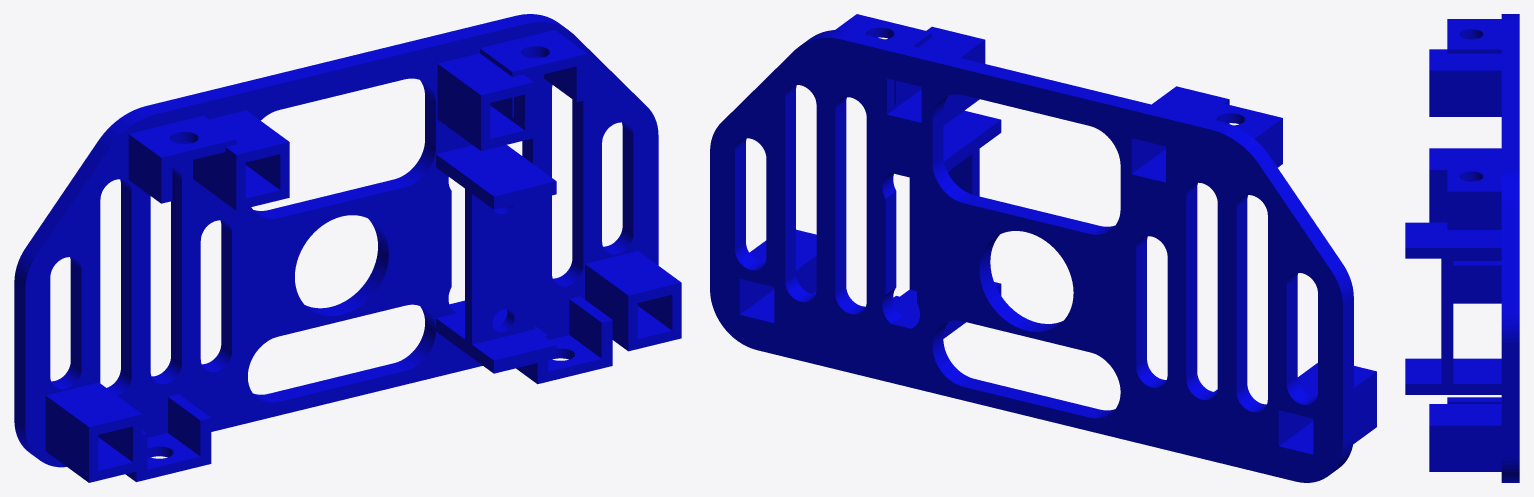
File: left_side_PCBWay Community.dae
3 views of the same model, side by side, from view 1: azimuth 30°, elevation 25°; view 2: azimuth 150°, elevation 25°; view 3: azimuth 270°, elevation 25° (orthographic). The views are drawn at different scales.
Visible parts, largest first — view 1: tmp_export_left_side_PCBWay Community; view 2: tmp_export_left_side_PCBWay Community; view 3: tmp_export_left_side_PCBWay Community.
Part boxes in pixels (x1=…): tmp_export_left_side_PCBWay Community: x1=14, y1=14, x2=681, y2=482; tmp_export_left_side_PCBWay Community: x1=710, y1=14, x2=1376, y2=482; tmp_export_left_side_PCBWay Community: x1=1405, y1=14, x2=1519, y2=482.
Bounding box in the file's own units: 0.101 × 0.019 × 0.0505.
